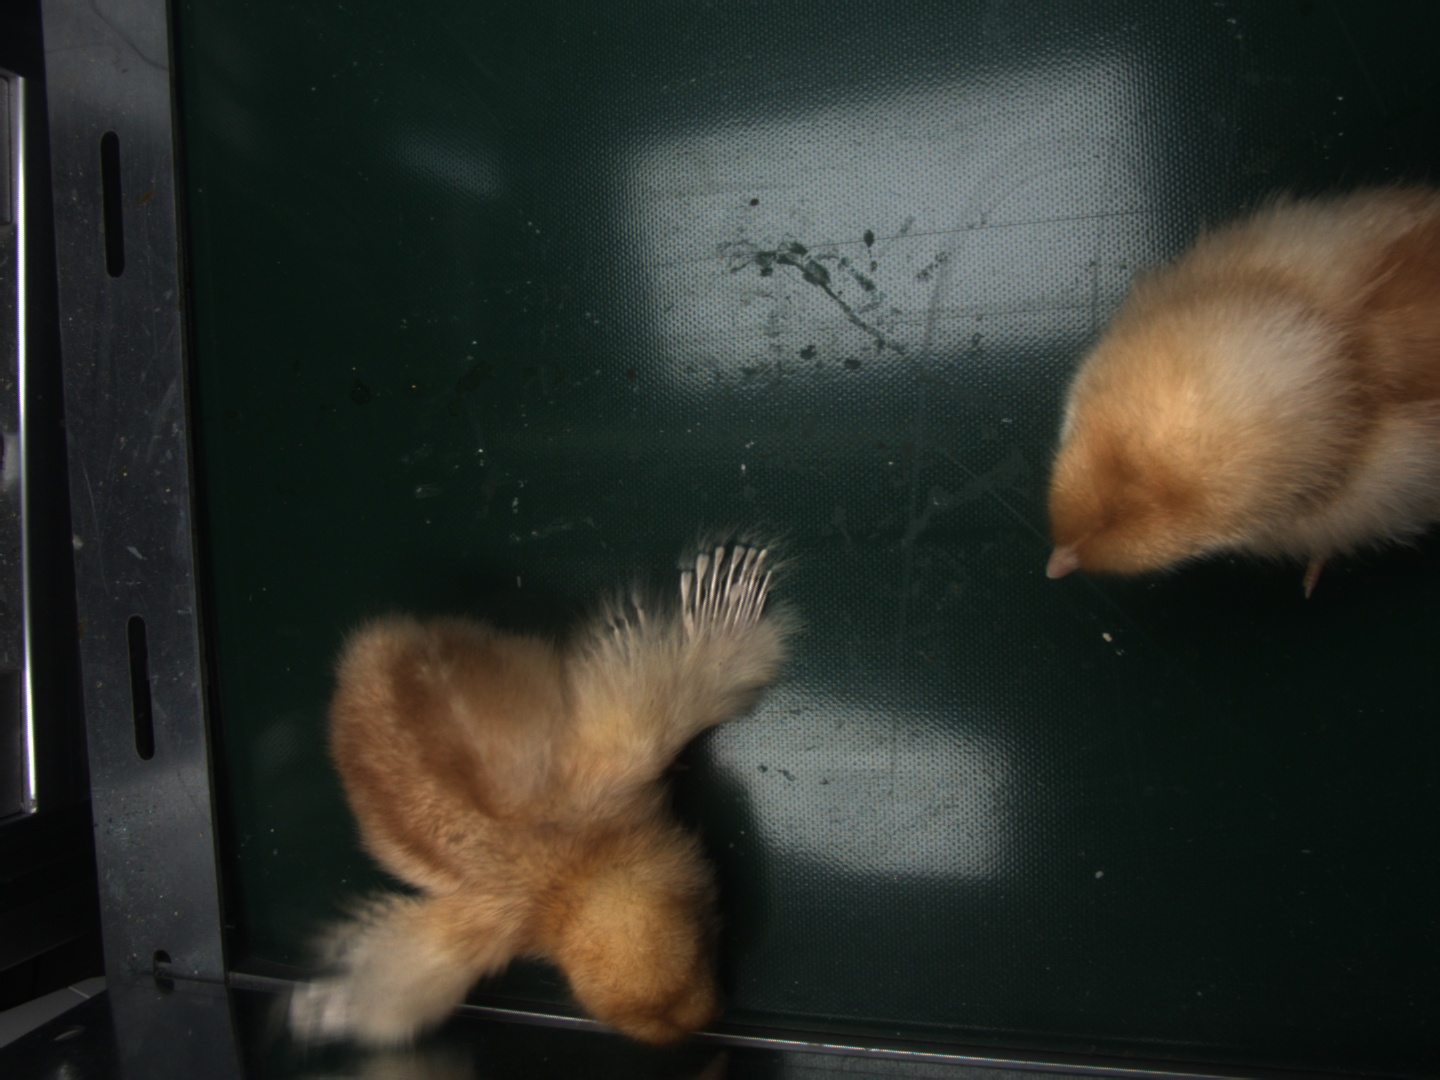female: (683, 545, 773, 625)
